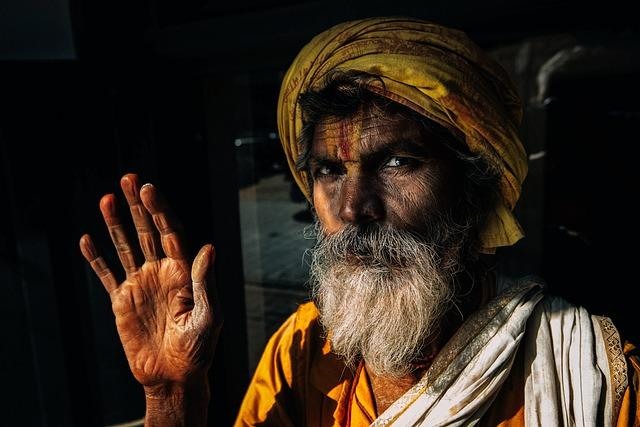Non_Gorille: (68, 1, 640, 427)
